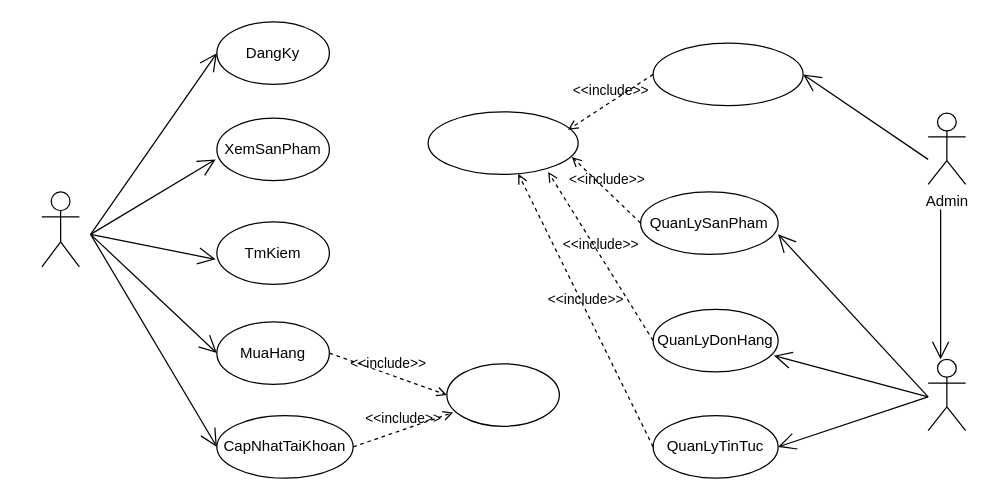
This 995x500 diagram has some shape labels left out. Here are the shapes that lost their labels. From the top down, the centre of each, then its label:
point (727, 74): QuanLyKhachHang
point (502, 142): DangNhapQuanTri
point (60, 229): KhachHang
point (502, 394): DangNhap
point (946, 394): QuanLy
